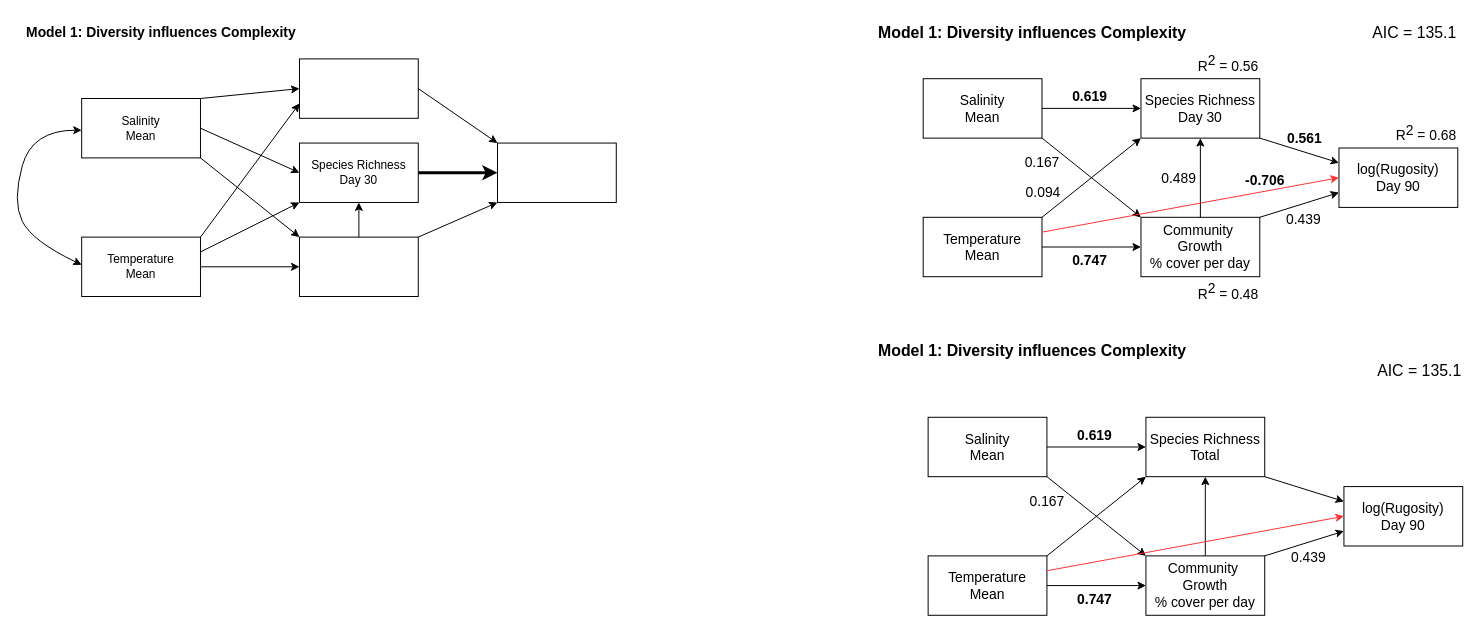
Some shapes in this 1480 by 633 pixel diagram are drawn without their labels. The centre of each missing label's shape, as x and y in pixels:
"Arborescent Bryozoans Day 30" goes at point 358,88.
"Community Growth (%/day)" goes at point 358,266.
"Rugosity Day 90" goes at point 556,172.
